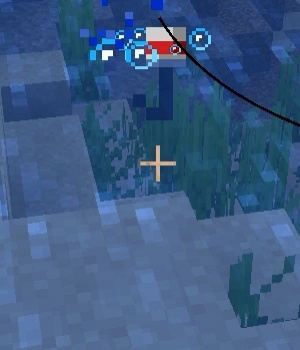up: (131, 17, 191, 128)
